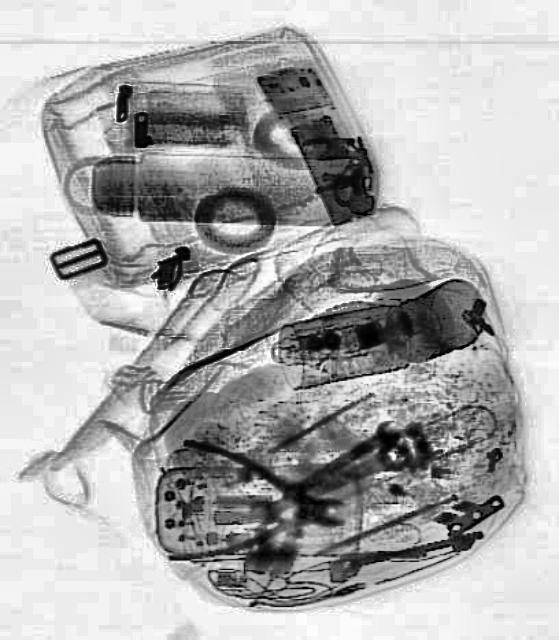Pliers: (162, 438, 346, 566)
Wrench: (248, 412, 402, 530), (330, 530, 445, 578)
